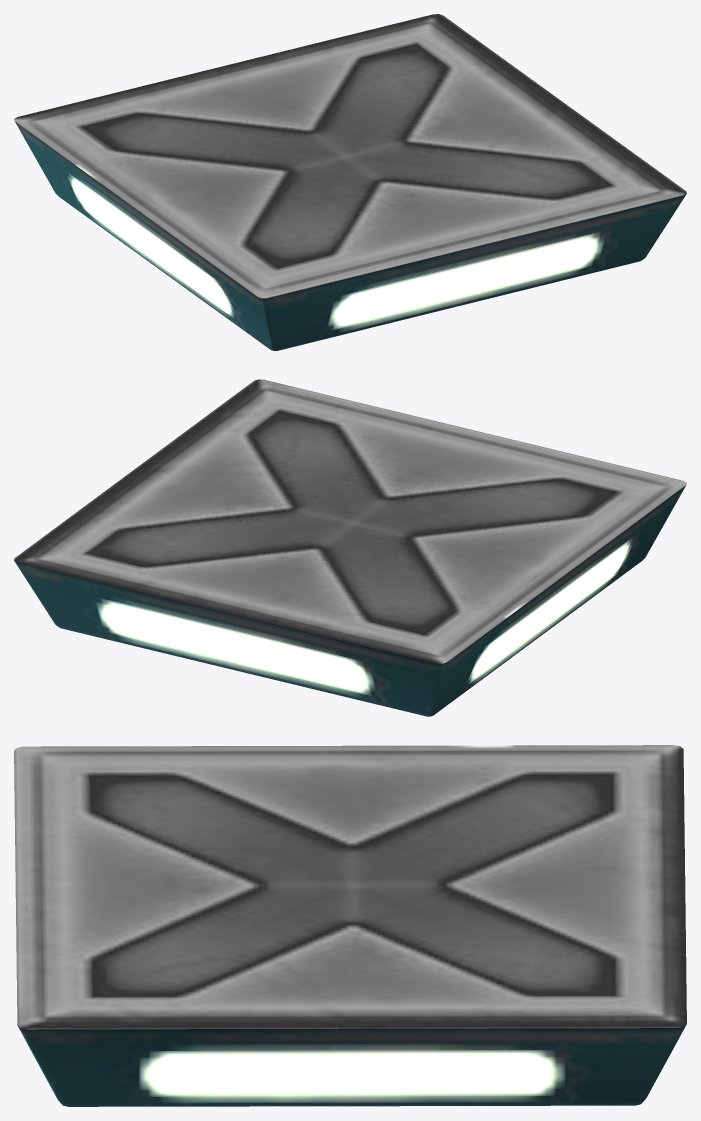
File: ARC1110024.fbx
3 views of the same model, one above another, from view 1: azimuth 30°, elevation 25°; view 2: azimuth 150°, elevation 25°; view 3: azimuth 270°, elevation 25° (orthographic). The views are drawn at different scales.
Parts seen in each view (by area): view 1: smARC1110024; view 2: smARC1110024; view 3: smARC1110024.
Boxes of the visible parts, box(x1,y1,x2,y2) form: smARC1110024: box(14, 14, 686, 350); smARC1110024: box(14, 379, 686, 716); smARC1110024: box(14, 745, 686, 1106).
Bounding box in the file's own units: 107 × 17.34 × 107.
Materials: 1 (1 with a texture image).
